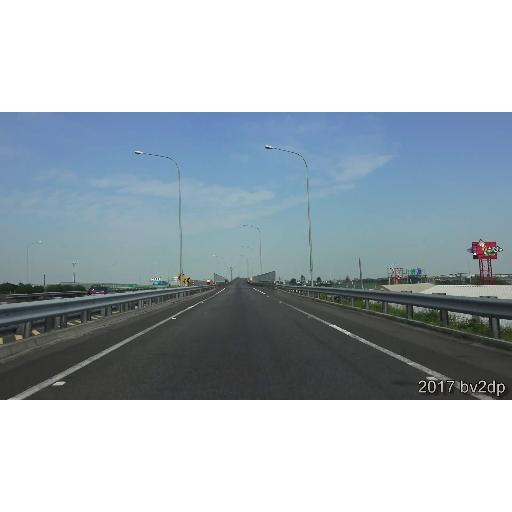Car: (94, 287, 114, 295), (87, 286, 101, 294)
